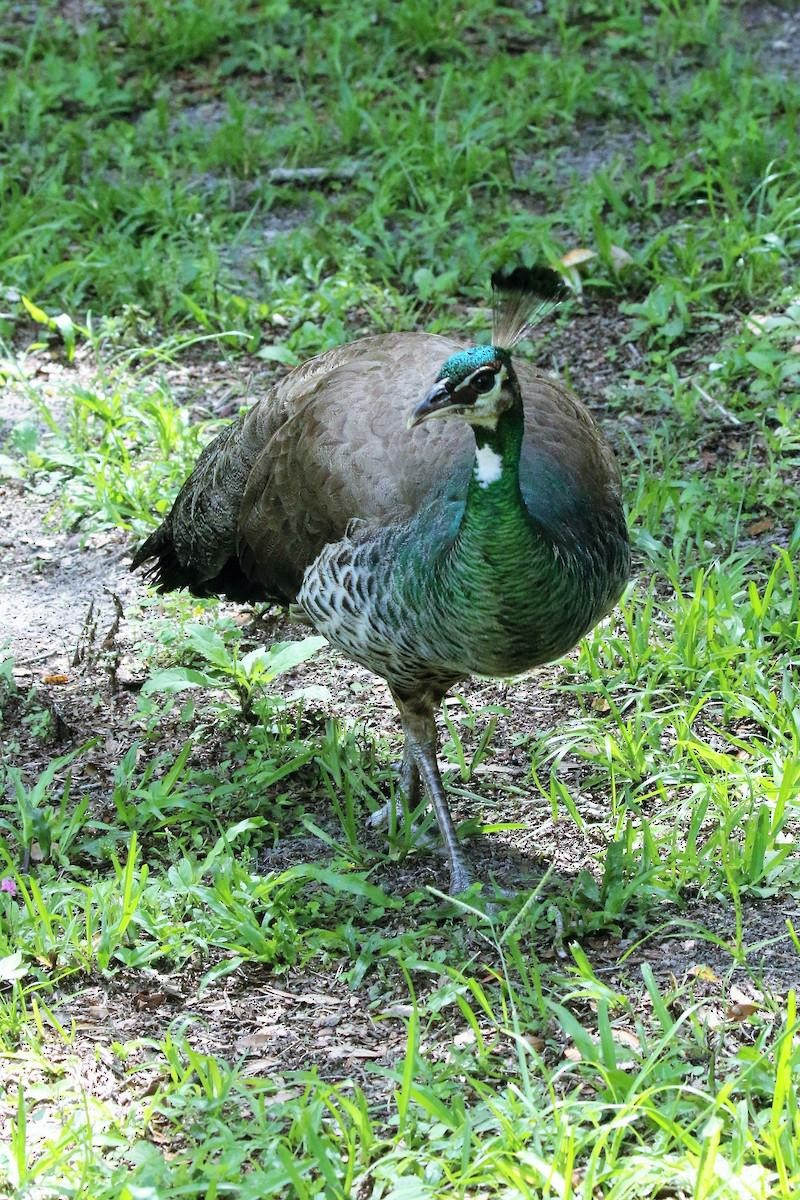peacock: (133, 273, 732, 909)
